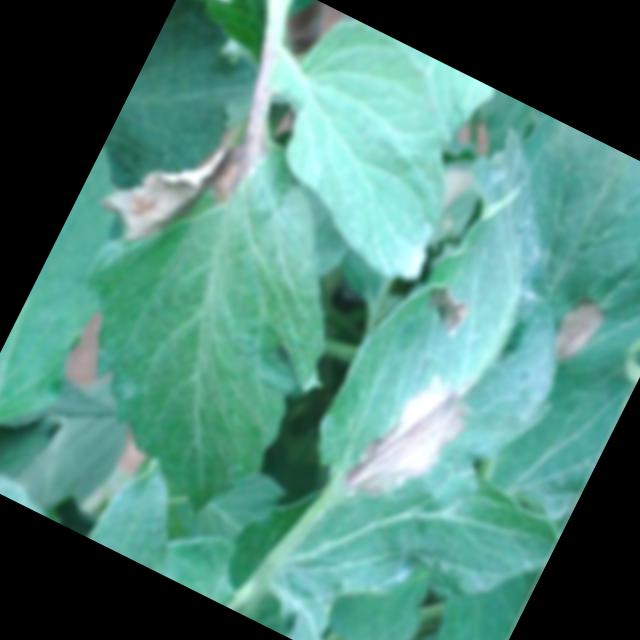Early_blight: (82, 44, 292, 283), (330, 340, 487, 525), (544, 286, 610, 367), (414, 280, 476, 340)
